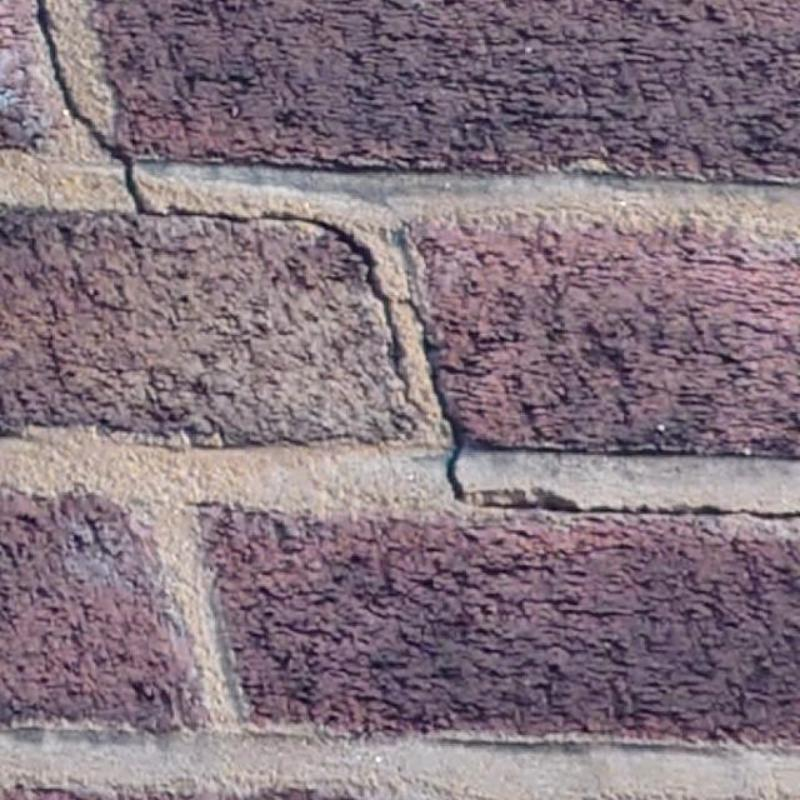crack: (38, 0, 411, 400), (408, 296, 469, 502), (463, 495, 800, 523)
